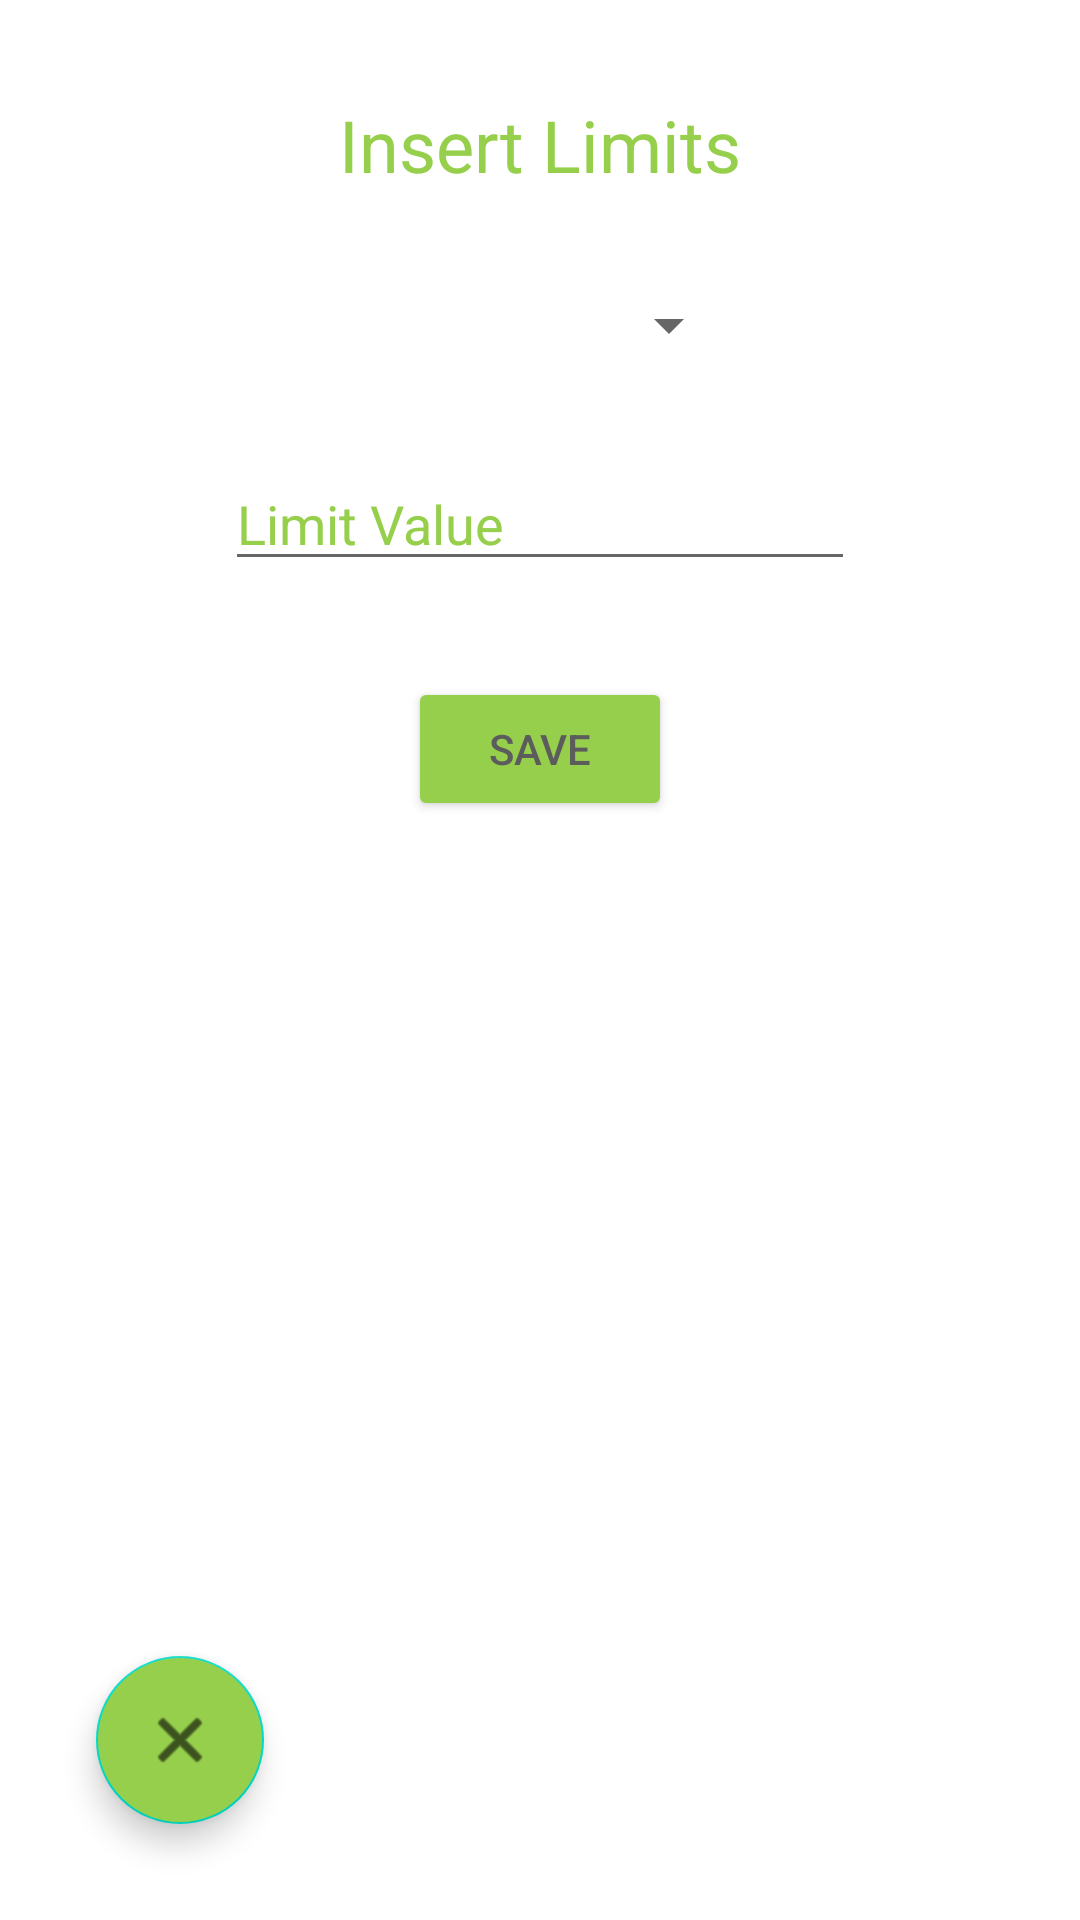

Named icons in this screenshot (1080px x 1920px) and their centers, (x,y):
close clear cancel: (180,1740)
